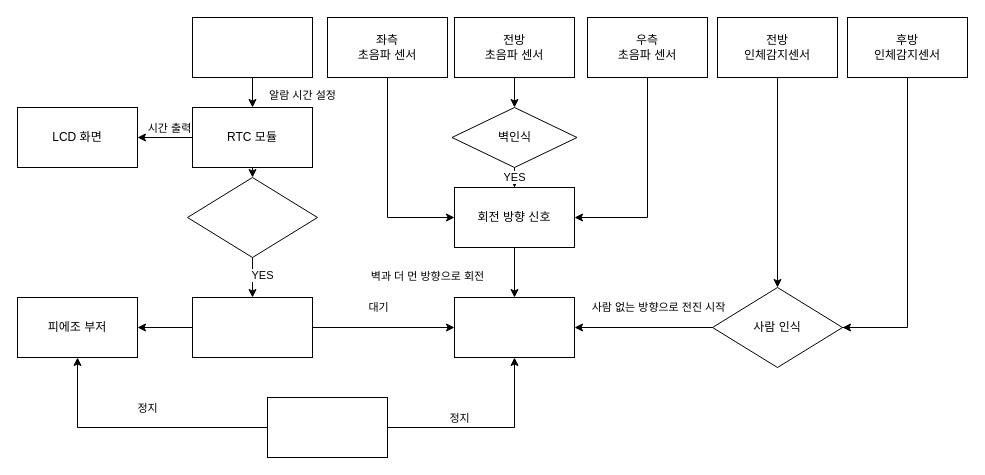
This 985x475 diagram has some shape labels left out. Here are the shapes that lost their labels. From the top down, the centre of each, then its label:
point (252, 47): 블루투스 모듈
point (252, 217): 현재 시간 = 알람 시간
point (252, 327): 알람 시작
point (514, 327): 모터
point (327, 427): STOP 버튼
